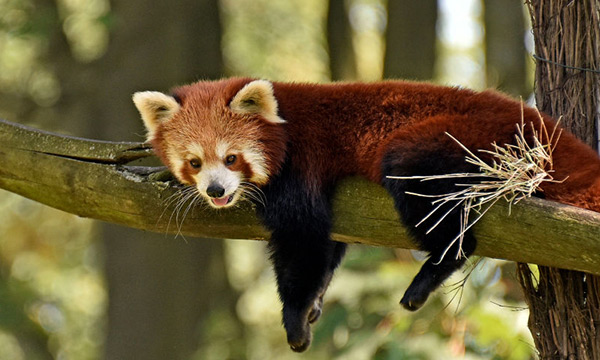red_panda: (129, 64, 599, 342)
